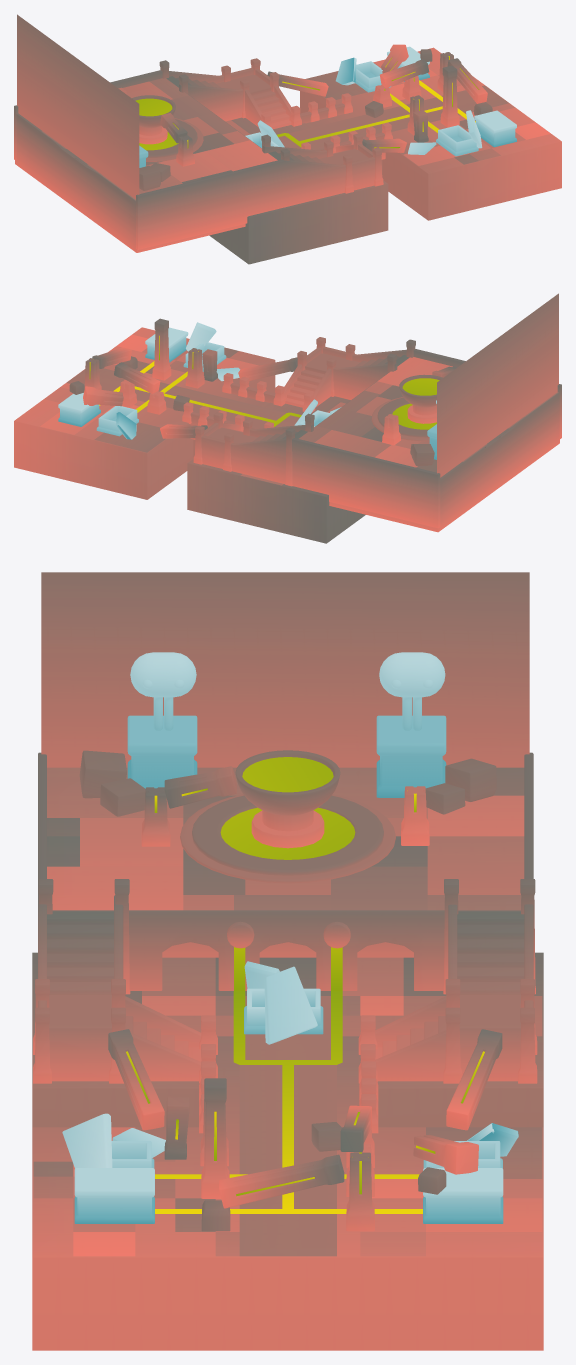
The model's file is TempleareaTextured.fbx.
The picture shows the model from 3 angles, top to bottom: view 1: azimuth 30°, elevation 25°; view 2: azimuth 150°, elevation 25°; view 3: azimuth 270°, elevation 25°; orthographic projection. The views are drawn at different scales.
Parts seen in each view (by area): view 1: Floor, Stairs, Level1, Wall, StairPillars, Fountain, Tome_3, Cube_9, Tome_2_2, Cube_16, Cube_13_2, Cube (+13 smaller); view 2: Floor, Stairs, Level1, Wall, StairPillars, Fountain, Tome, Cube_9, Cube_13, Tome_3, Cube_16, Tome_1 (+16 smaller); view 3: Floor, Wall, Level1, Stairs, Fountain, StairPillars, Statue, Statue_2, Tome_3, Tome, Cube_13_2, Substance_1 (+19 smaller).
Boxes of the visible parts, x1,y1,x2,y2 form: Floor: (209, 47, 561, 264); Stairs: (14, 68, 375, 249); Level1: (15, 78, 277, 252); Wall: (17, 14, 139, 251); StairPillars: (159, 58, 392, 207); Fountain: (132, 95, 203, 161); Tome_3: (474, 110, 516, 147); Cube_9: (440, 65, 459, 127); Tome_2_2: (436, 125, 478, 156); Cube_16: (380, 59, 429, 88); Cube_13_2: (447, 58, 487, 103); Cube: (267, 71, 328, 96); Floor: (14, 327, 365, 543); Stairs: (201, 346, 561, 528); Level1: (298, 357, 559, 532); Wall: (437, 293, 558, 477); StairPillars: (182, 337, 415, 486); Fountain: (371, 374, 442, 441); Tome: (58, 393, 100, 426); Cube_9: (152, 318, 171, 380); Cube_13: (238, 357, 297, 380); Tome_3: (145, 327, 188, 362); Cube_16: (114, 362, 160, 393); Tome_1: (96, 406, 138, 436); Floor: (32, 952, 543, 1350); Wall: (41, 572, 529, 767); Level1: (47, 767, 524, 990); Stairs: (38, 752, 533, 1081); Fountain: (180, 750, 395, 883); StairPillars: (33, 879, 537, 1133); Statue: (376, 652, 446, 797); Statue_2: (127, 652, 197, 788); Tome_3: (74, 1168, 154, 1223); Tome: (423, 1168, 503, 1223); Cube_13_2: (219, 1154, 344, 1208); Substance_1: (220, 807, 355, 859).
Bounding box in the file's own units: 3519 × 1469 × 1844.
